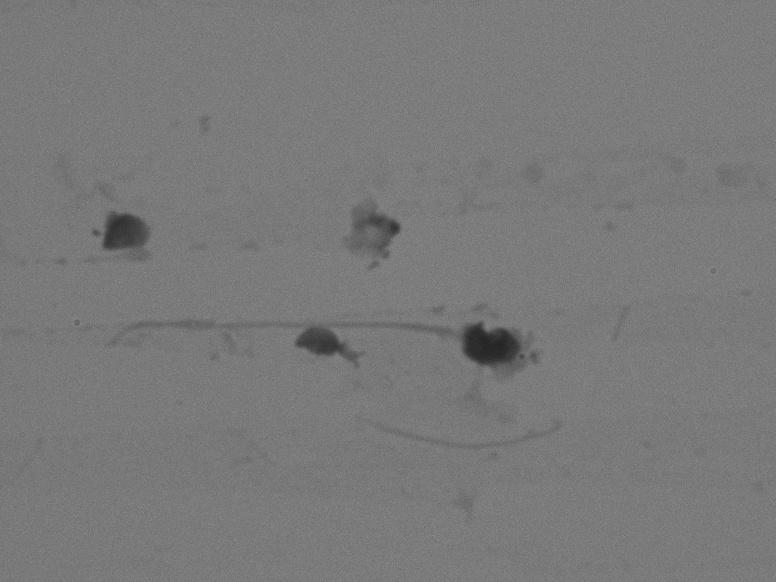Abnormal: (67, 280, 546, 428)
